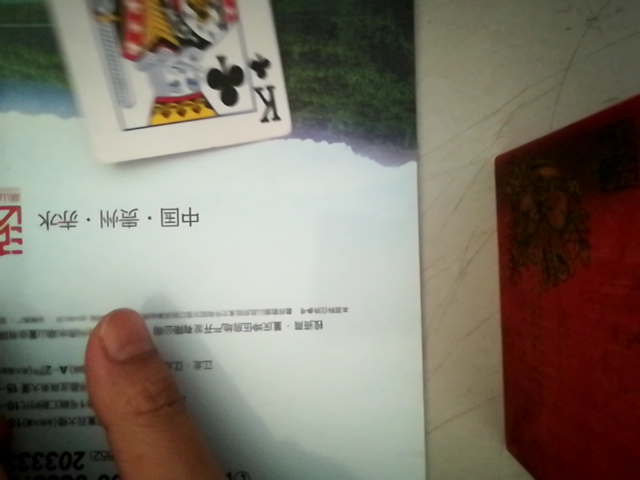mh k: (46, 0, 309, 167)
